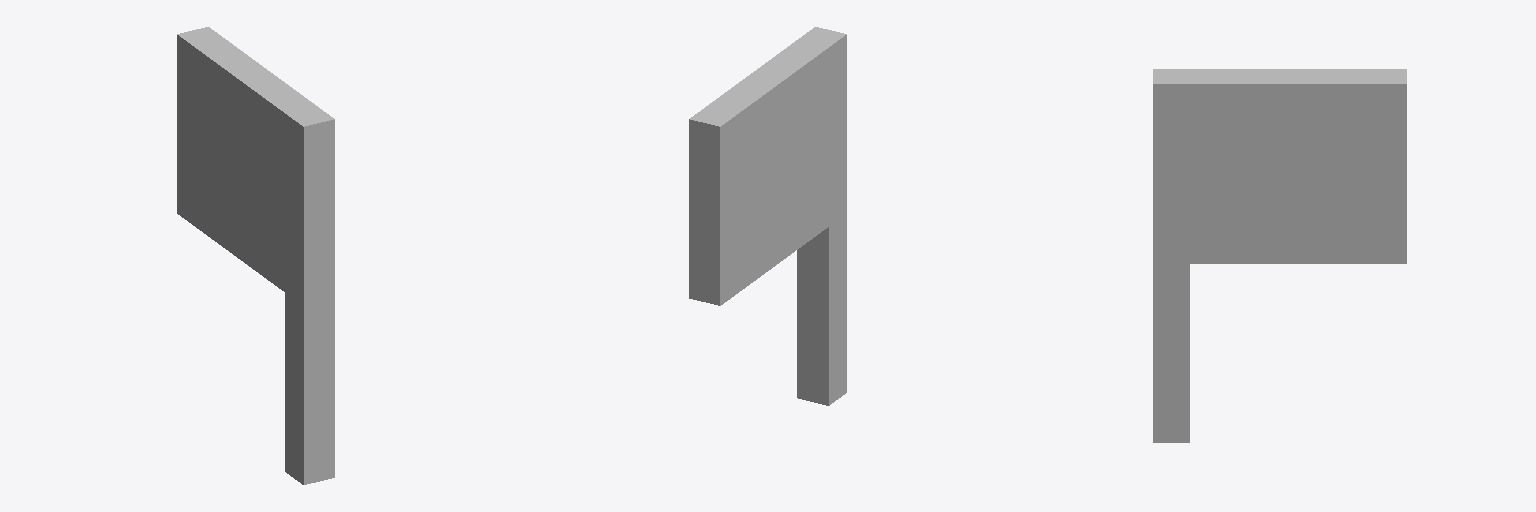
The model's file is flaga.obj.
3 views of the same model, side by side, from view 1: azimuth 30°, elevation 25°; view 2: azimuth 150°, elevation 25°; view 3: azimuth 270°, elevation 25° (orthographic).
Visible parts, largest first — view 1: Cube; view 2: Cube; view 3: Cube.
Part boxes in pixels (bbox=[...]): Cube: bbox=[177, 27, 334, 484]; Cube: bbox=[689, 27, 846, 405]; Cube: bbox=[1153, 69, 1406, 442].
Bounding box in the file's own units: 0.4914 × 5.35 × 3.42.